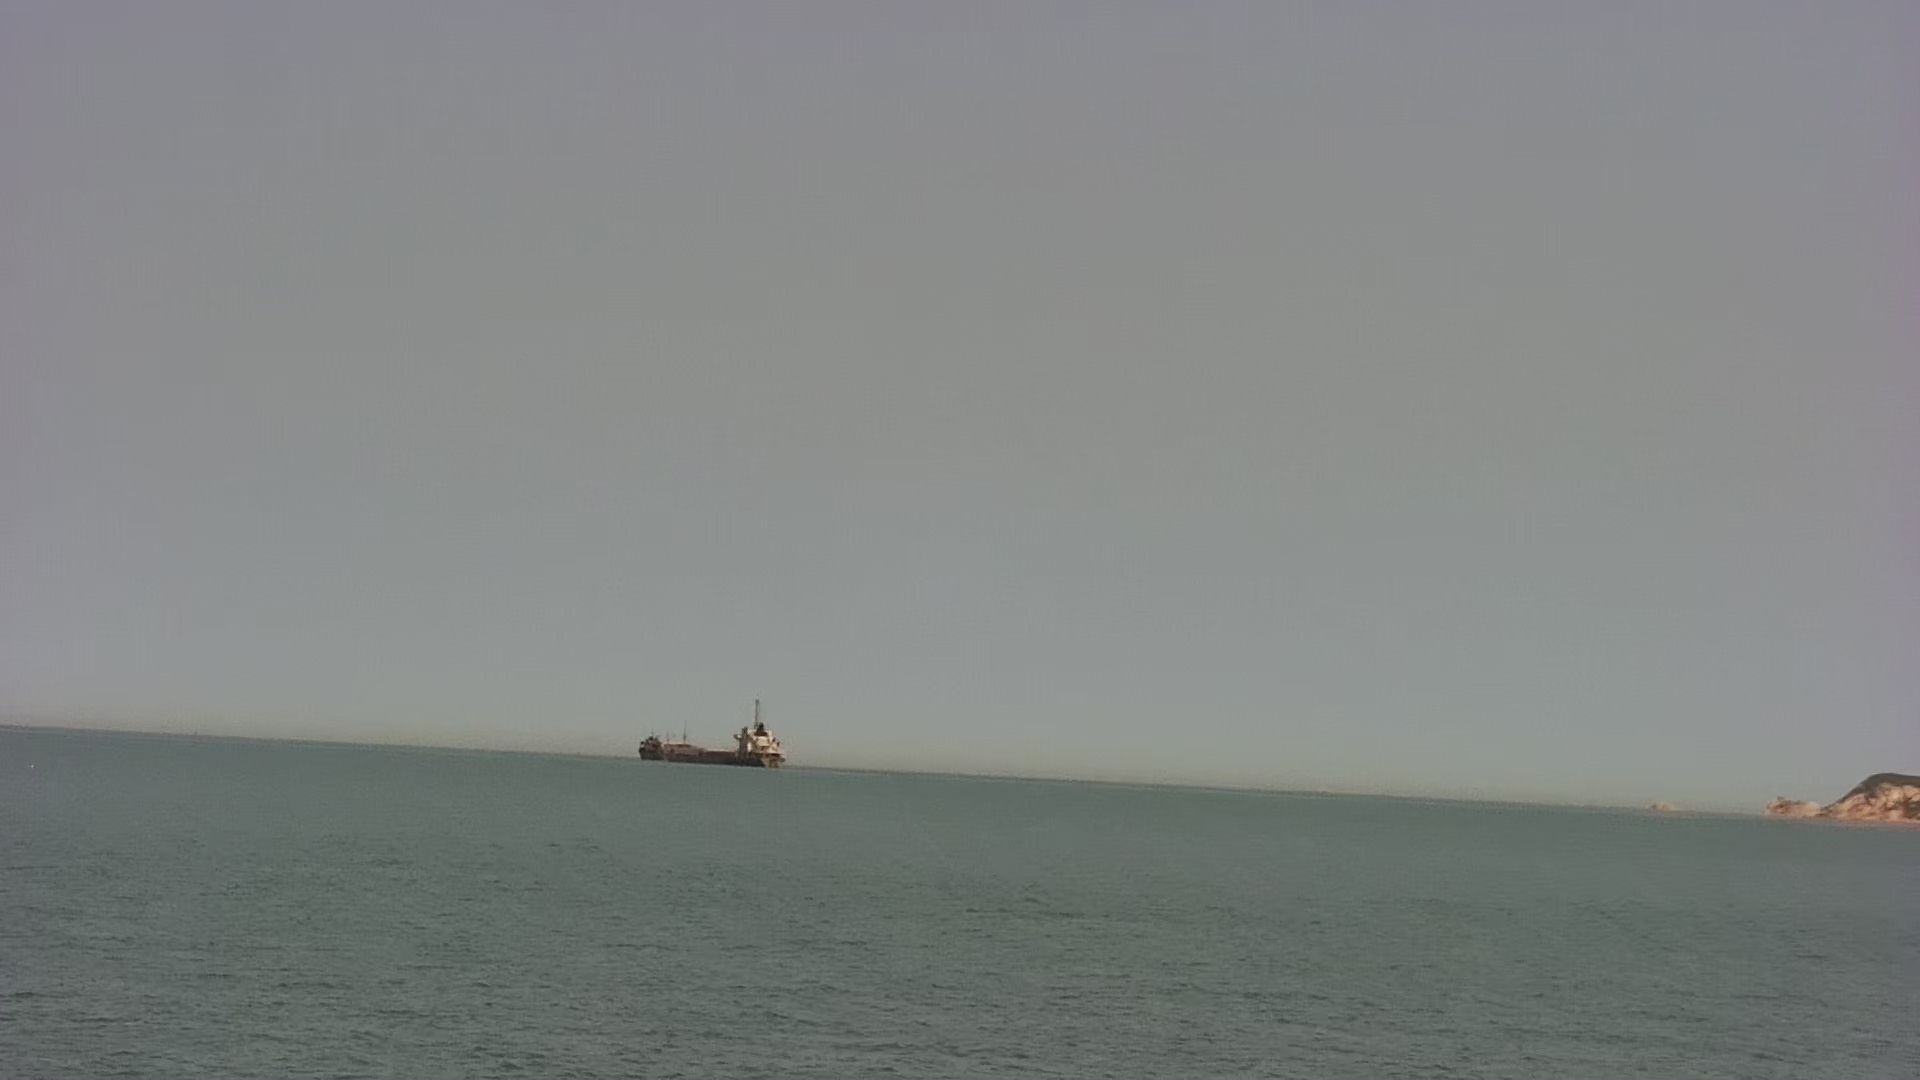rock: (1763, 769, 1920, 825)
ship: (638, 688, 795, 771)
